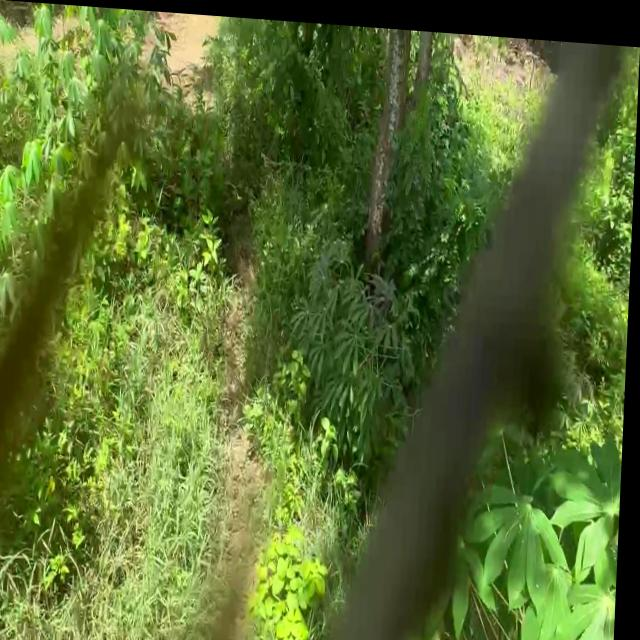Maleza: (32, 483, 265, 631), (6, 381, 227, 501), (186, 368, 324, 515), (52, 277, 196, 404), (222, 510, 343, 640), (101, 203, 216, 308)
Mosca: (508, 515, 527, 543), (588, 471, 612, 492)
